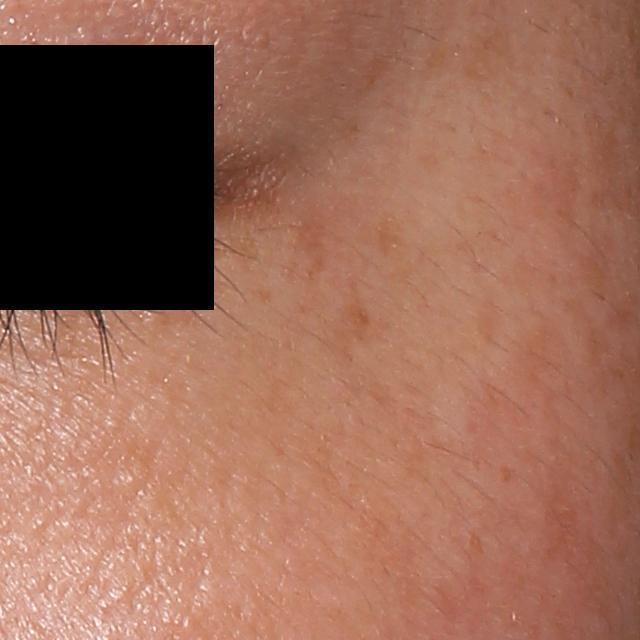melasma: (462, 22, 509, 83), (331, 296, 372, 363), (374, 211, 412, 263)
